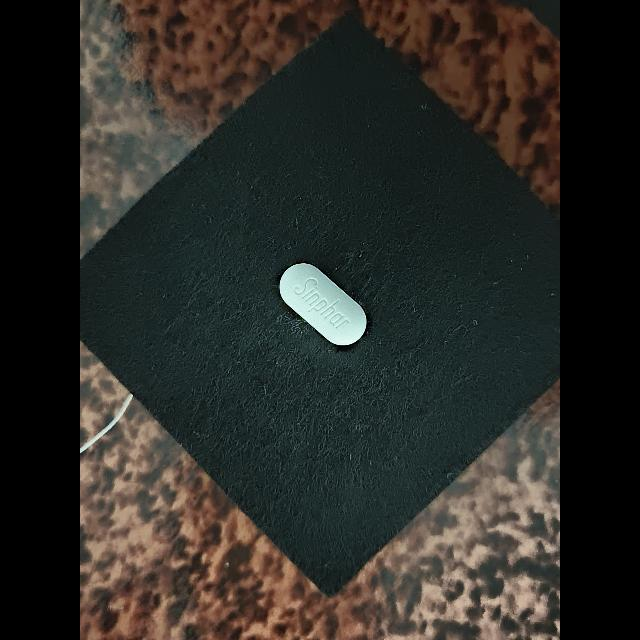Intact Pill: (279, 263, 367, 345)
